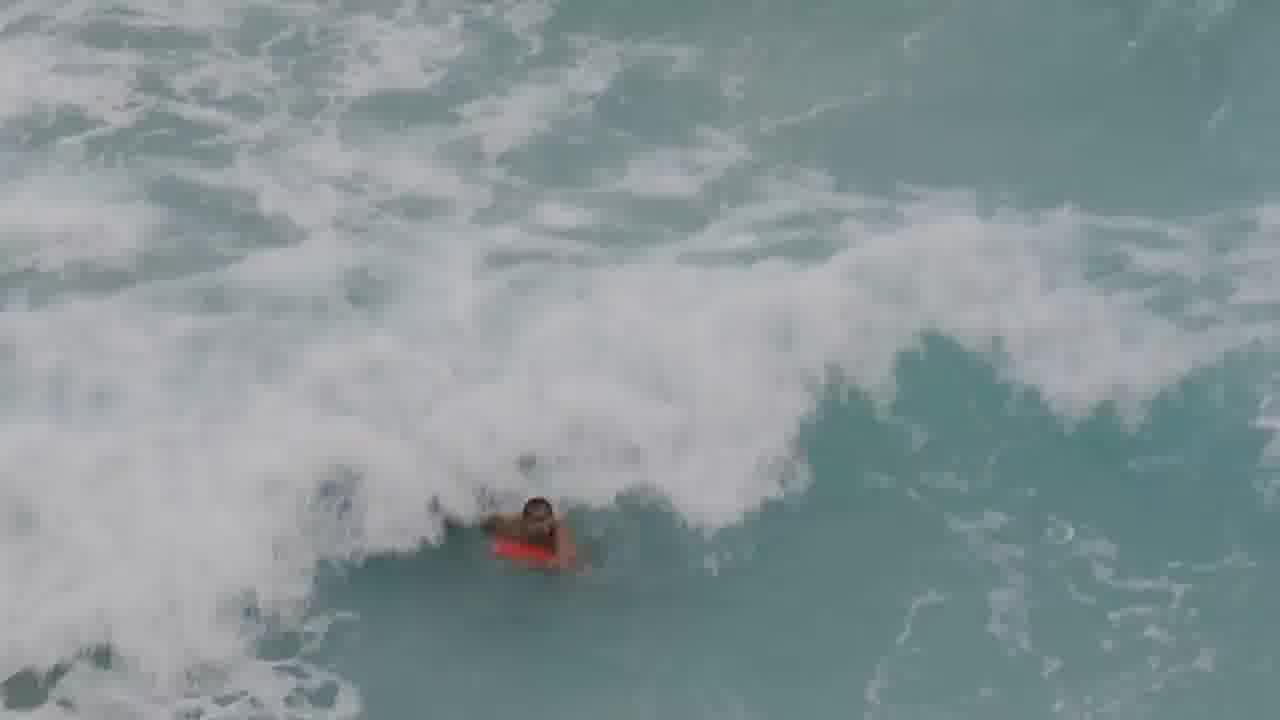human: (497, 494, 592, 547)
